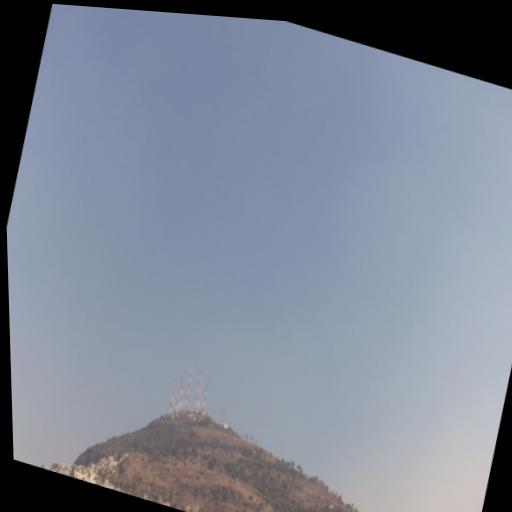drones: (220, 467, 225, 472)
